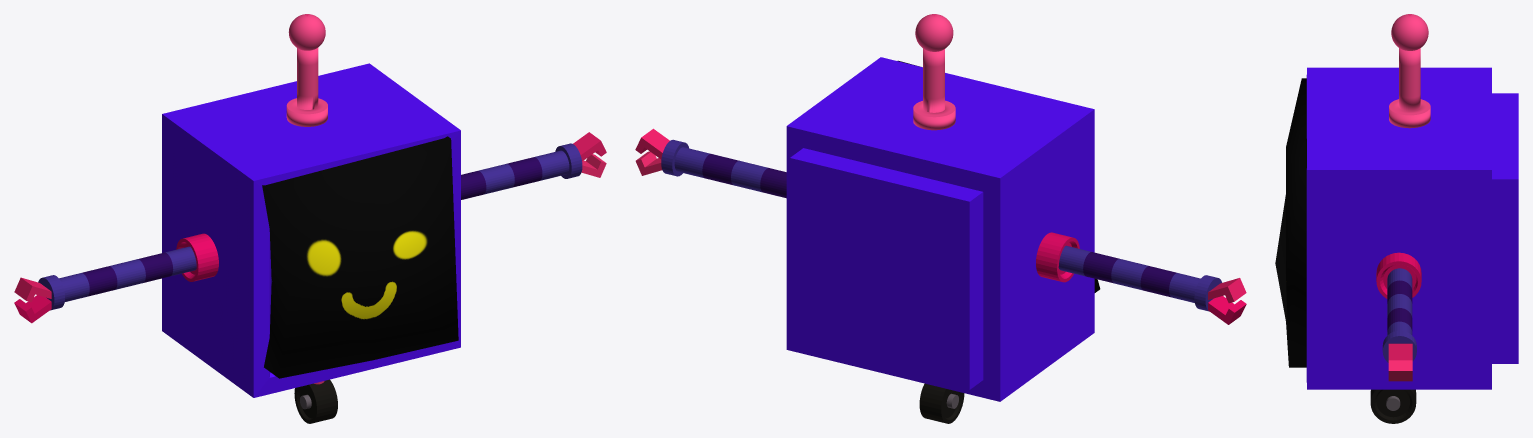
The model's file is Robot4.glb.
3 renders of one model, left to right at view 1: azimuth 30°, elevation 25°; view 2: azimuth 150°, elevation 25°; view 3: azimuth 270°, elevation 25°, orthographic. The views are drawn at different scales.
Visible parts, largest first — view 1: Cube.002, Cube.006, Cylinder.008, Cylinder.005, Cylinder.007, Cylinder.001, Cube.007, Cube.005, Cube.003; view 2: Cube.002, Cylinder.008, Cylinder.005, Cylinder.007, Cylinder.001, Cube.007, Cube.005, Cube.003; view 3: Cube.002, Cube.006, Cylinder.007, Cylinder.005, Cylinder.001, Cube.004, Cube.003.
Boxes of the visible parts, x1=… form: Cube.002: x1=162, y1=63, x2=460, y2=397; Cube.006: x1=262, y1=136, x2=458, y2=378; Cylinder.008: x1=38, y1=233, x2=218, y2=310; Cylinder.005: x1=461, y1=143, x2=582, y2=199; Cylinder.007: x1=286, y1=14, x2=327, y2=126; Cylinder.001: x1=294, y1=379, x2=337, y2=423; Cube.007: x1=14, y1=295, x2=51, y2=323; Cube.005: x1=14, y1=277, x2=51, y2=302; Cube.003: x1=573, y1=132, x2=606, y2=161; Cube.002: x1=786, y1=57, x2=1094, y2=401; Cylinder.008: x1=1036, y1=232, x2=1221, y2=311; Cylinder.005: x1=661, y1=139, x2=786, y2=198; Cylinder.007: x1=913, y1=14, x2=955, y2=130; Cylinder.001: x1=919, y1=383, x2=964, y2=423; Cube.007: x1=1208, y1=296, x2=1246, y2=324; Cube.005: x1=1208, y1=278, x2=1246, y2=303; Cube.003: x1=635, y1=128, x2=669, y2=159; Cube.002: x1=1306, y1=67, x2=1518, y2=389; Cube.006: x1=1275, y1=78, x2=1306, y2=367; Cylinder.007: x1=1389, y1=14, x2=1430, y2=128; Cylinder.005: x1=1376, y1=252, x2=1421, y2=362; Cylinder.001: x1=1370, y1=389, x2=1416, y2=423; Cube.004: x1=1388, y1=360, x2=1412, y2=381; Cube.003: x1=1388, y1=343, x2=1412, y2=360.
Bounding box in the file's own units: 2.23 × 1.46 × 0.7994.
19 materials, 4 textured.
